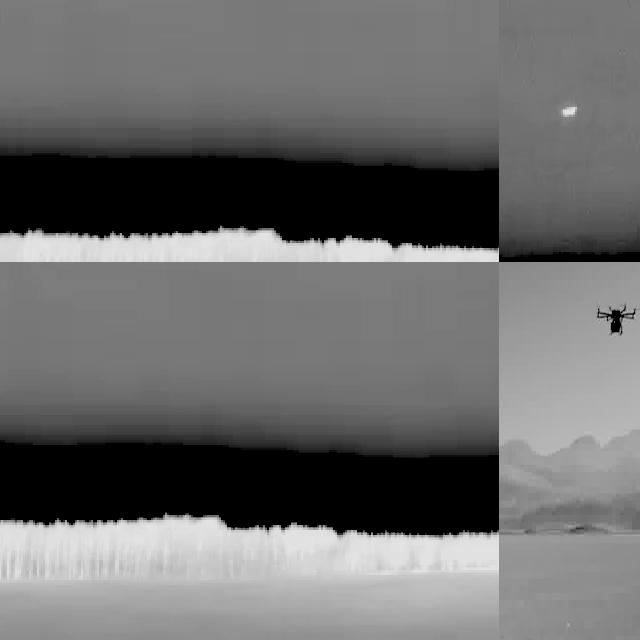1: (552, 100, 588, 130)
drone: (593, 299, 638, 336)
